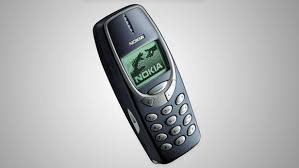nokia: (91, 3, 203, 167)
